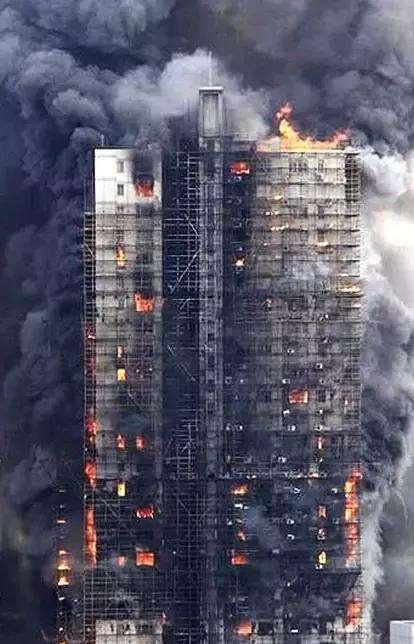fire: (76, 153, 185, 625), (224, 378, 369, 635), (215, 98, 361, 182), (52, 481, 80, 619)
